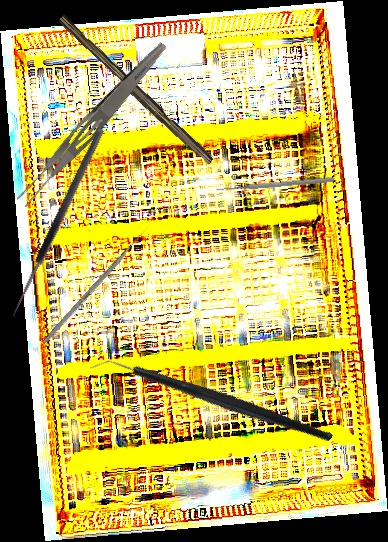Chopper: (88, 289, 334, 515)
Dressing Forceps: (12, 34, 171, 212)
Hook Surgical: (9, 127, 114, 324)
Pusher: (42, 224, 151, 345), (215, 175, 335, 194)
Scalpel Handle: (53, 14, 217, 168)
